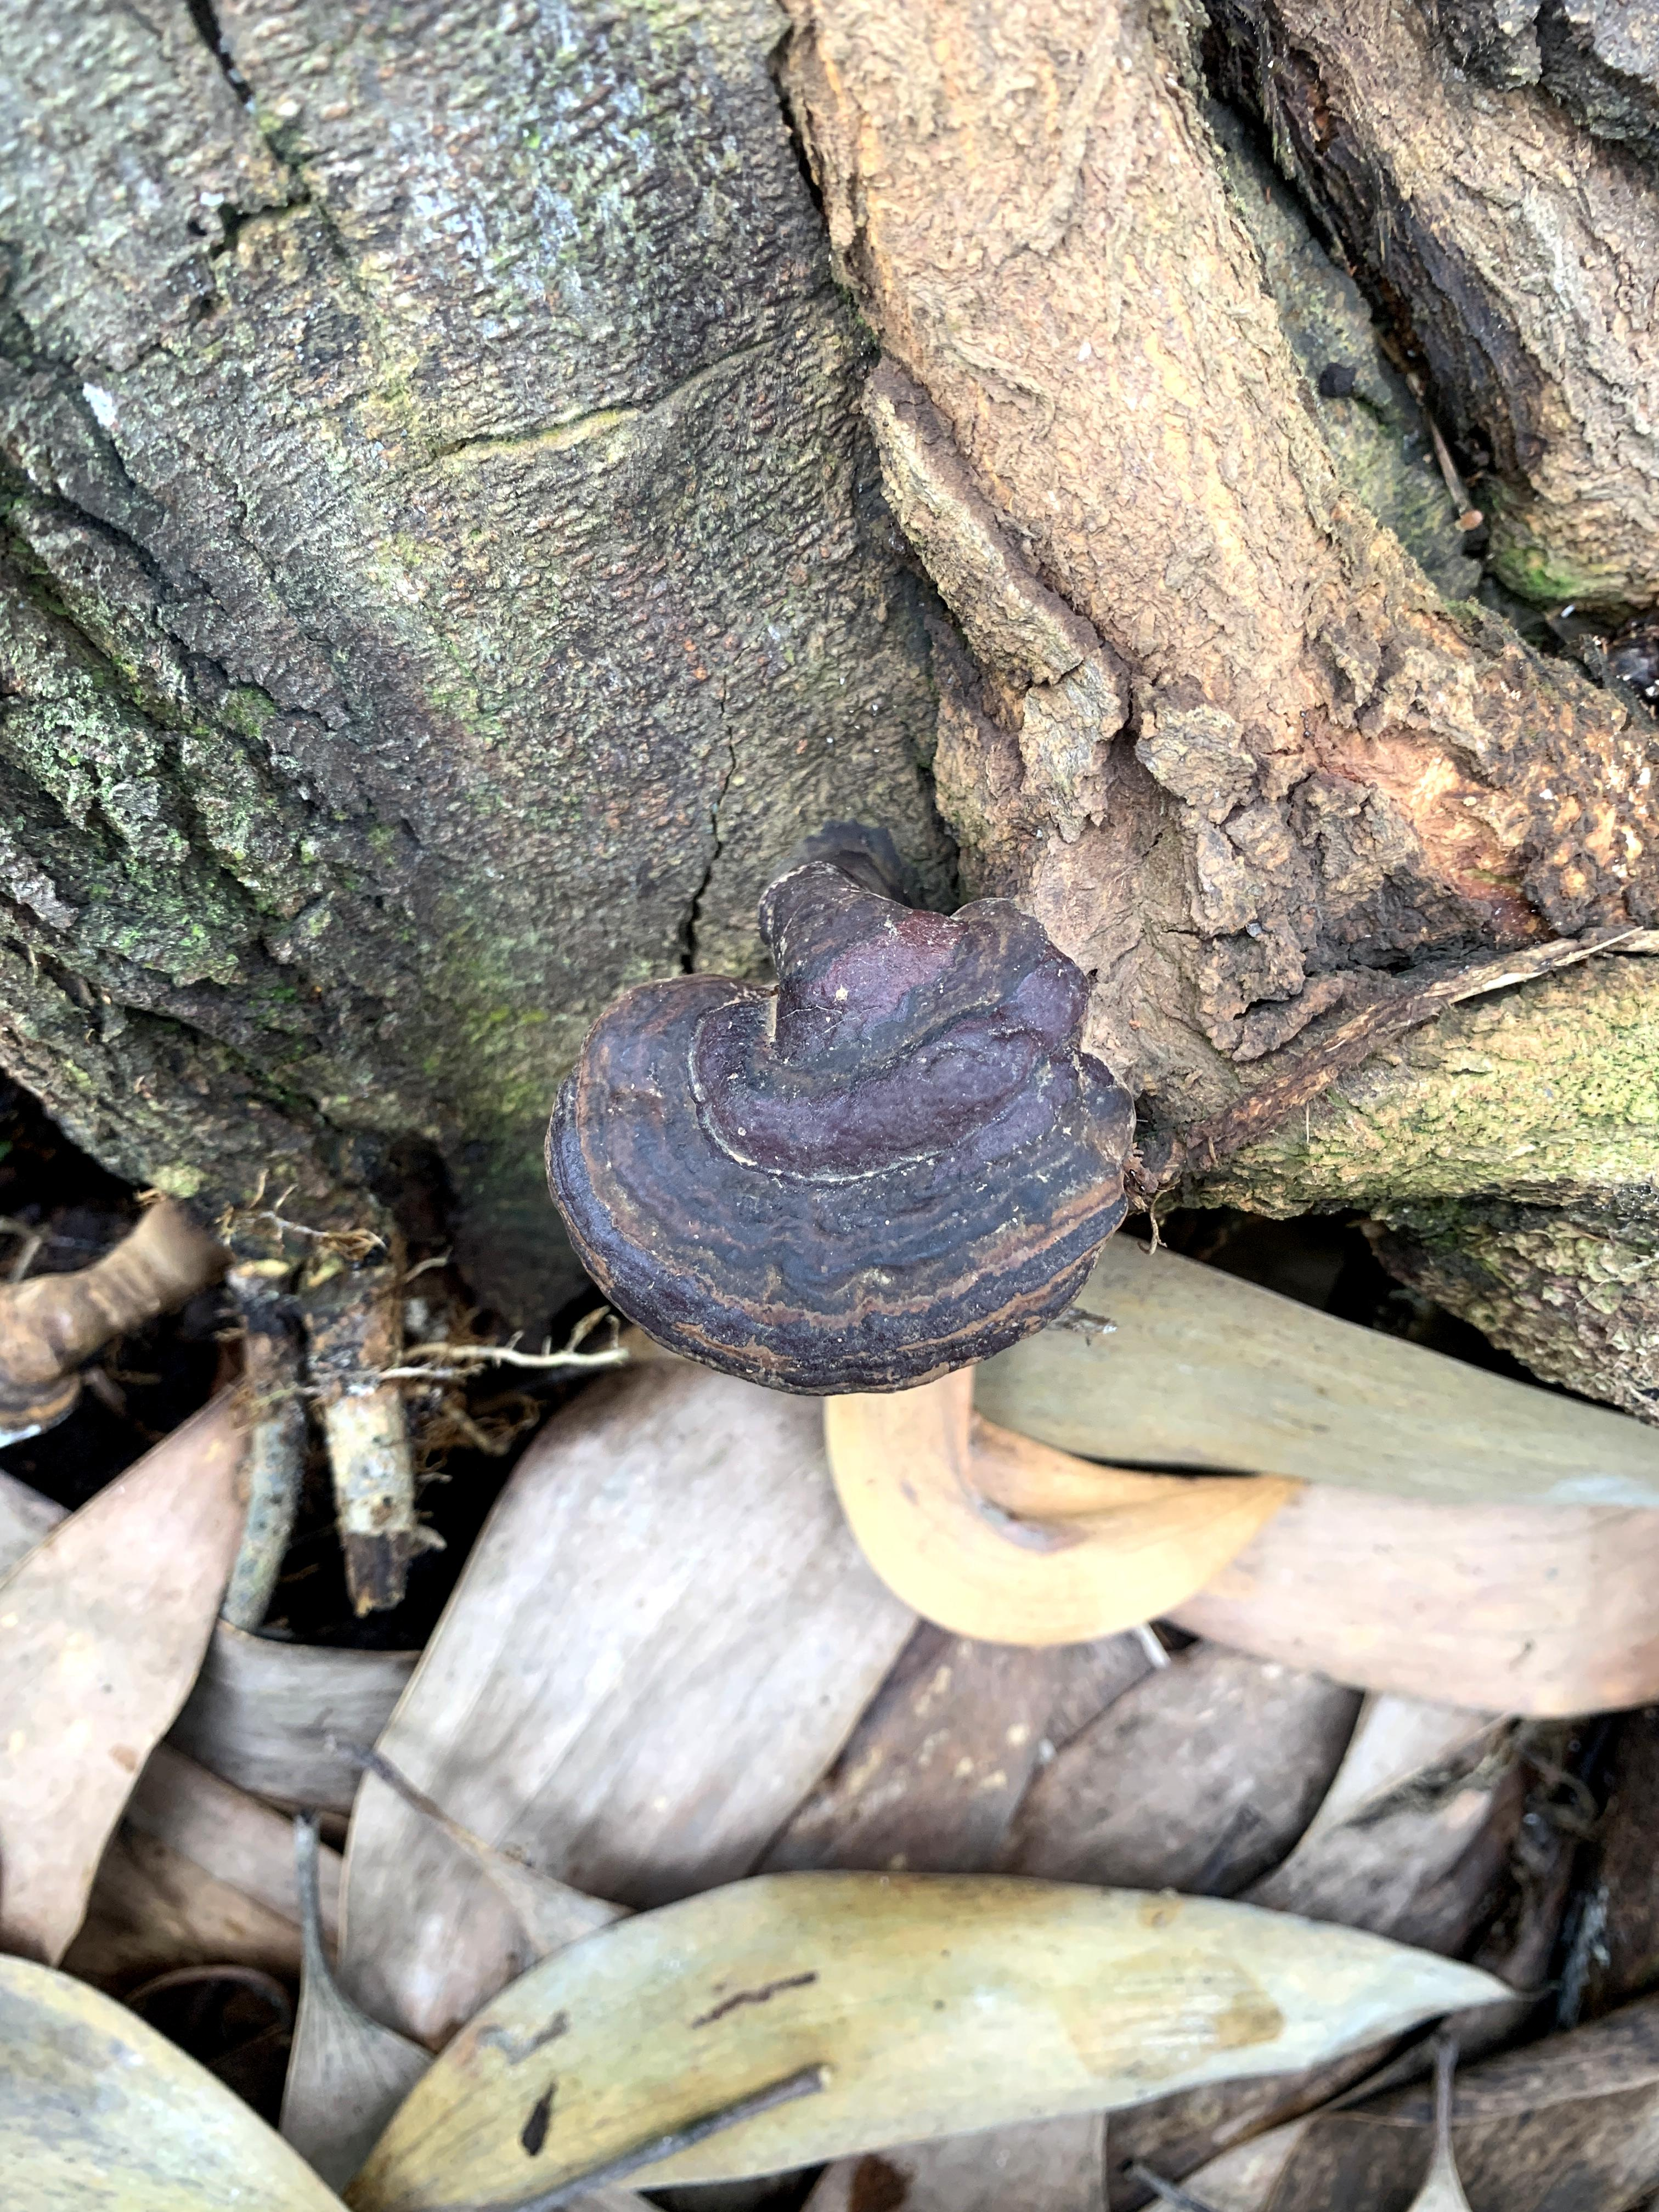Ganoderma - Fruit Body: (518, 862, 1134, 1406)
